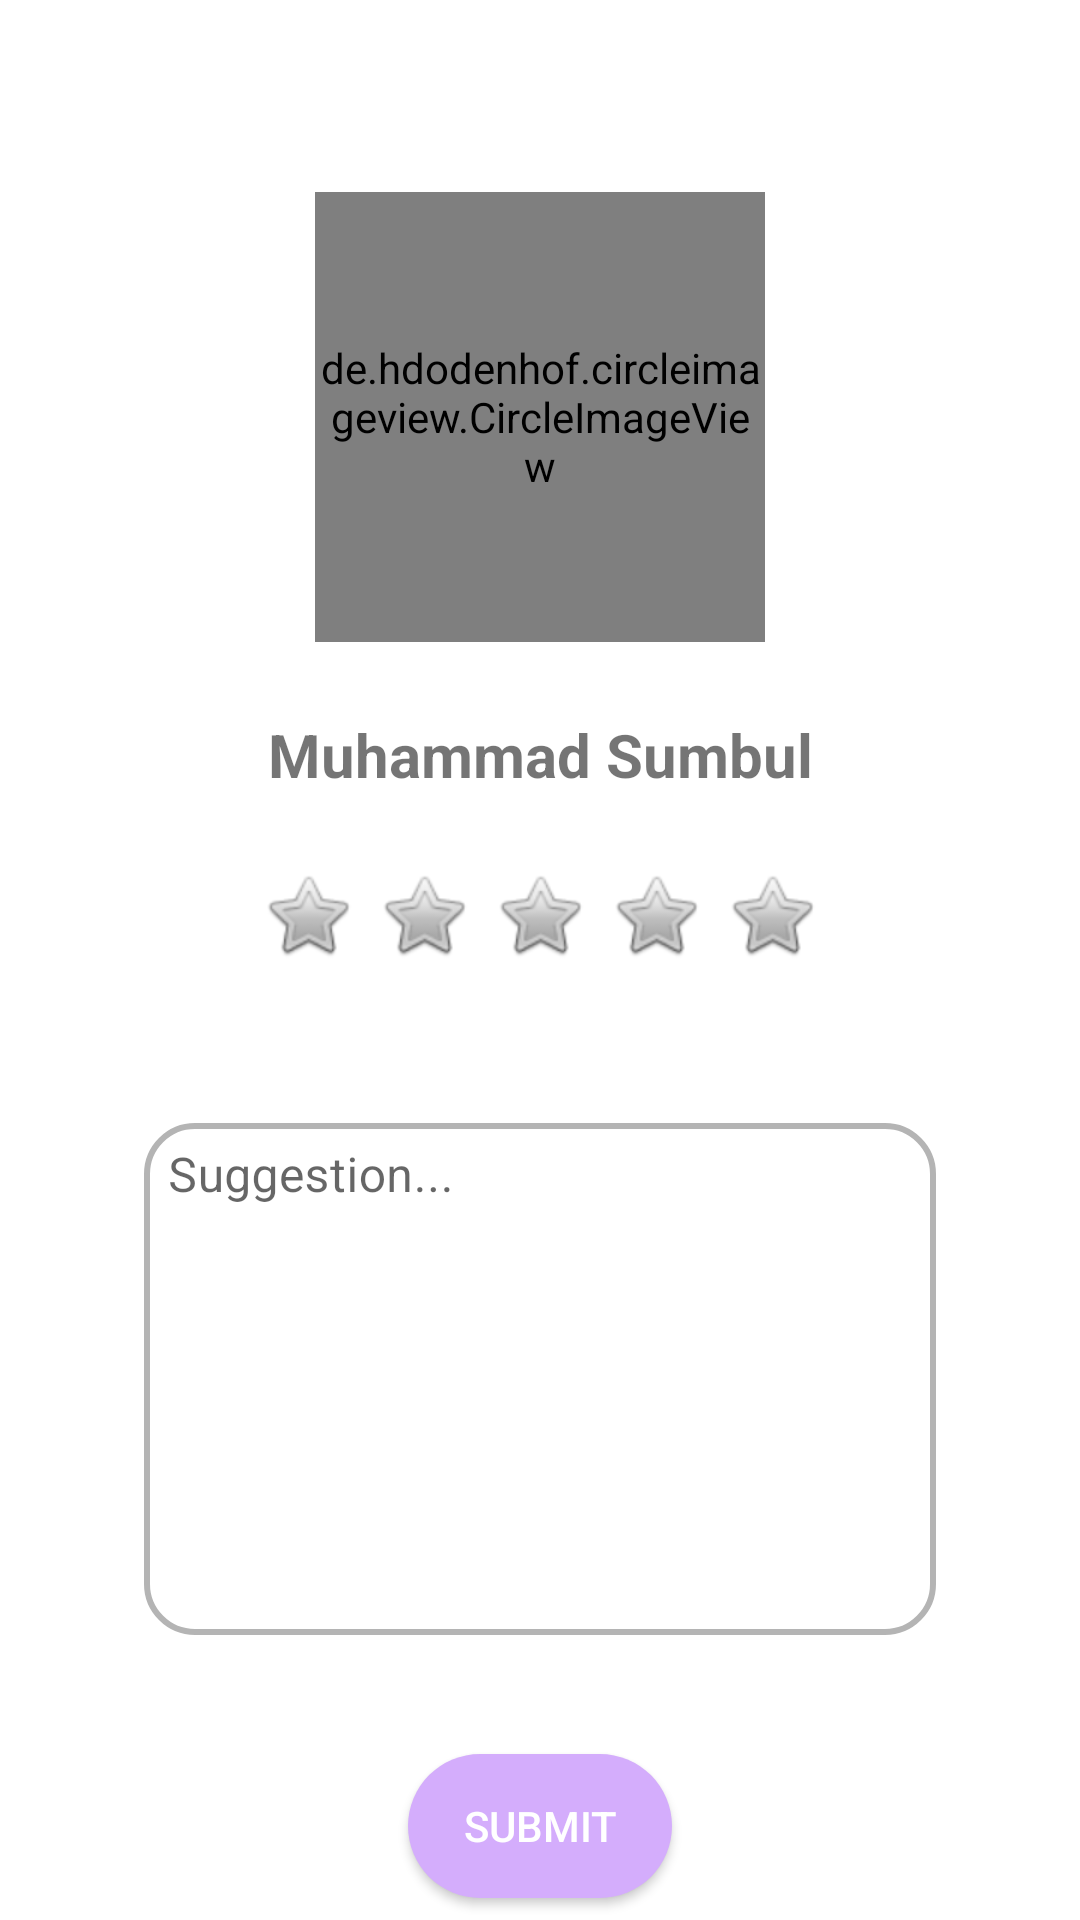

Screen size 1080w x 1920h. Icon name, then its box in pixels as BBox(x1, y1, x2, y2):
star off: BBox(269, 877, 349, 955), BBox(385, 877, 465, 955), BBox(501, 877, 581, 955), BBox(617, 877, 697, 955), BBox(733, 877, 813, 955)
